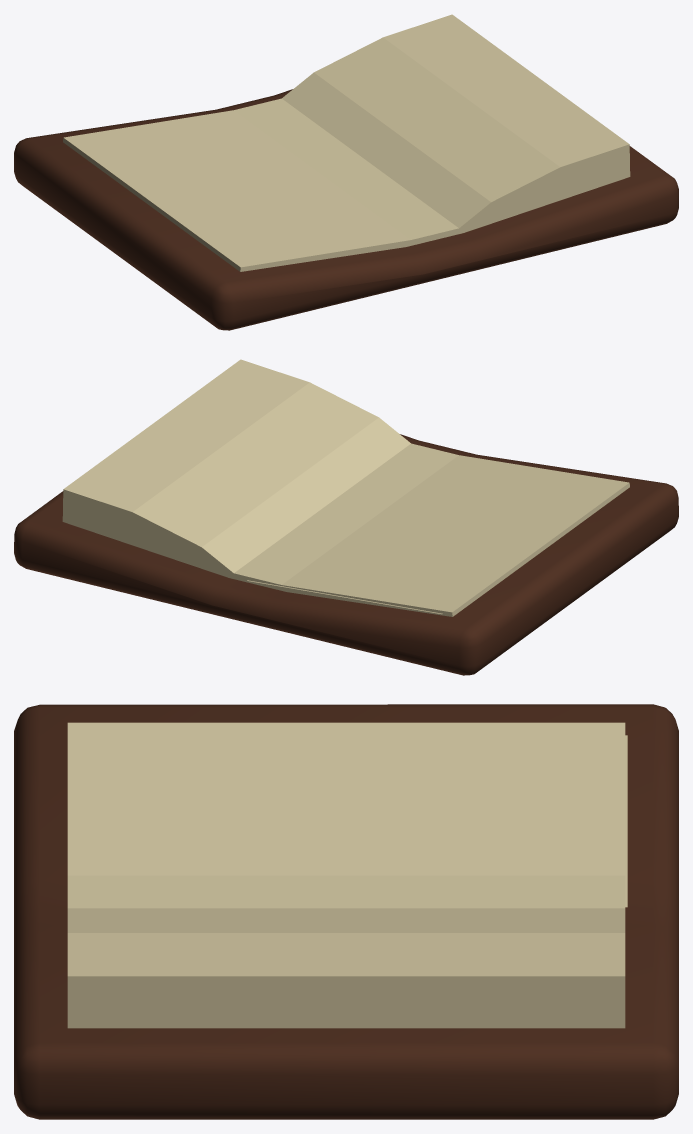
The model's file is book.glb.
The picture shows the model from 3 angles, top to bottom: view 1: azimuth 30°, elevation 25°; view 2: azimuth 150°, elevation 25°; view 3: azimuth 270°, elevation 25°; orthographic projection. The views are drawn at different scales.
Parts seen in each view (by area): view 1: papers, book_cover; view 2: papers, book_cover; view 3: papers, book_cover.
Part boxes in pixels (bbox=[...]): papers: bbox=[63, 14, 630, 271]; book_cover: bbox=[14, 89, 678, 330]; papers: bbox=[62, 359, 629, 616]; book_cover: bbox=[14, 434, 678, 675]; papers: bbox=[67, 722, 625, 1028]; book_cover: bbox=[14, 704, 678, 1119].
Bounding box in the file's own units: 0.6731 × 0.1078 × 0.53.
